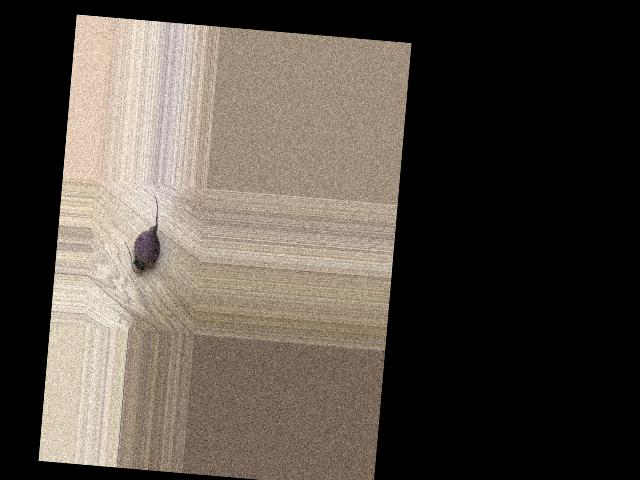beet: (122, 192, 165, 274)
